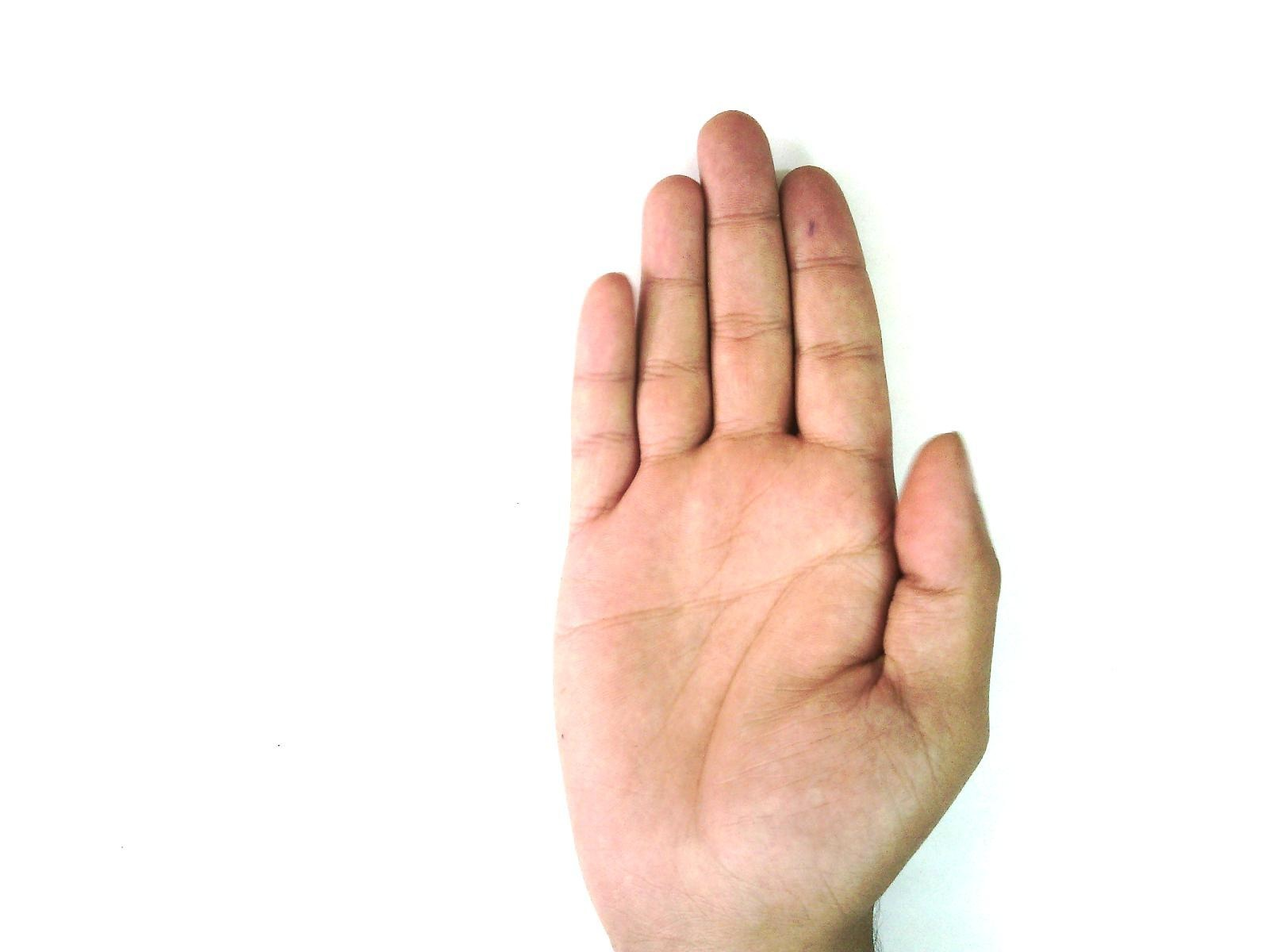open_palm: (549, 109, 1005, 950)
